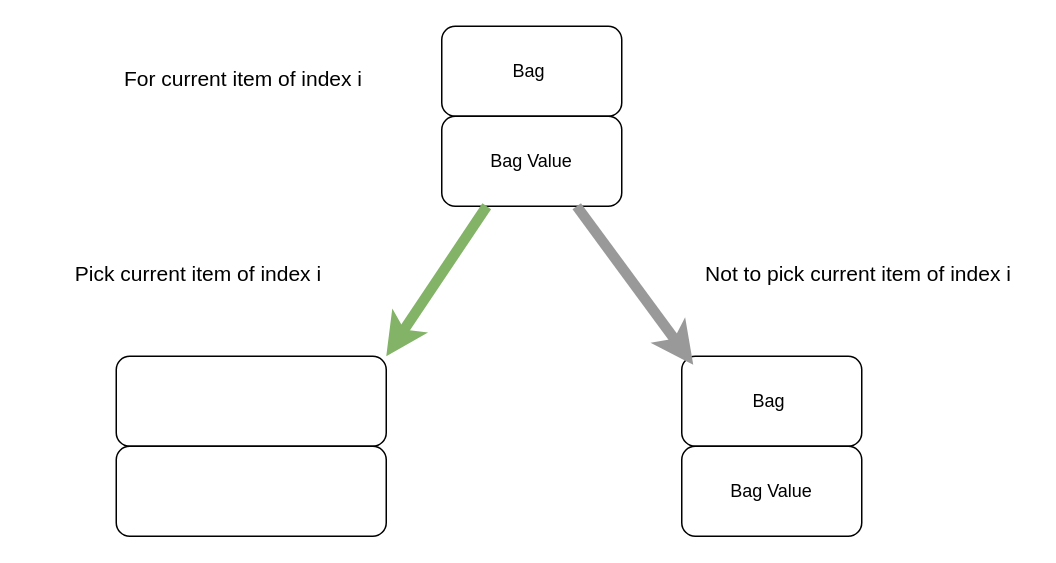
The diagram is 1056 pixels wide and 563 high, and some of its shapes have lost their labels. The centre of each missing label's shape, as x and y in pixels:
"Bag + current item" belongs at (250,400).
"Bag value + current item value" belongs at (250,490).
